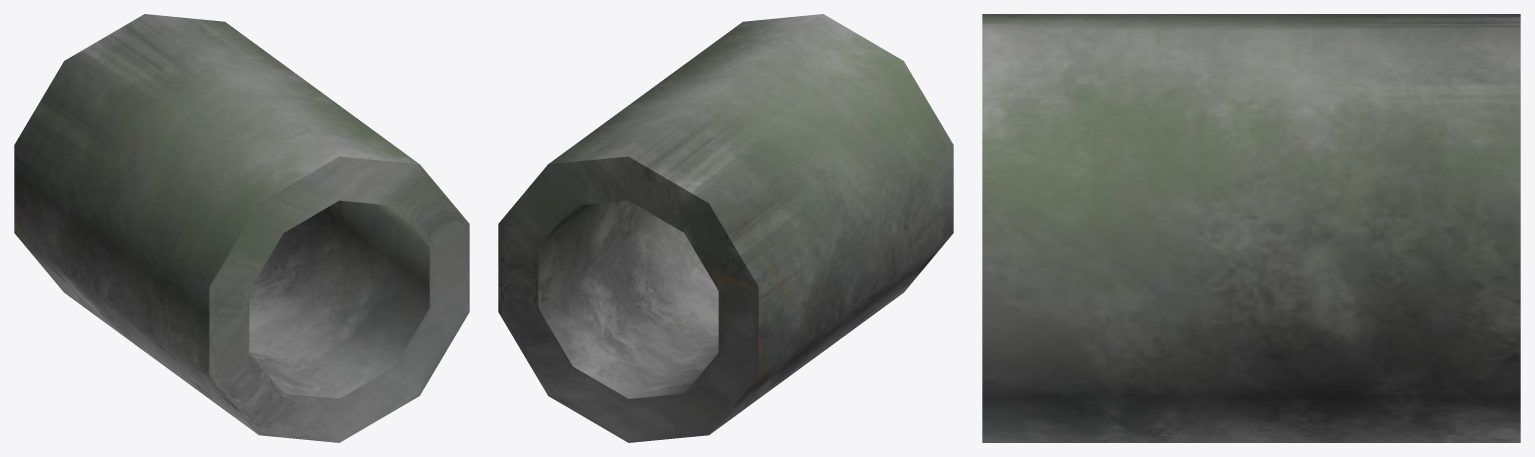
File: Gun_Brazo.FBX
The picture shows the model from 3 angles, left to right: view 1: azimuth 30°, elevation 25°; view 2: azimuth 150°, elevation 25°; view 3: azimuth 270°, elevation 25°; orthographic projection. The views are drawn at different scales.
Visible parts, largest first — view 1: Tube001; view 2: Tube001; view 3: Tube001.
Boxes of the visible parts, bbox=[...] form: Tube001: bbox=[14, 14, 469, 442]; Tube001: bbox=[498, 14, 953, 442]; Tube001: bbox=[982, 14, 1520, 442].
Bounding box in the file's own units: 32.46 × 34.13 × 42.06.
1 material, 1 textured.
